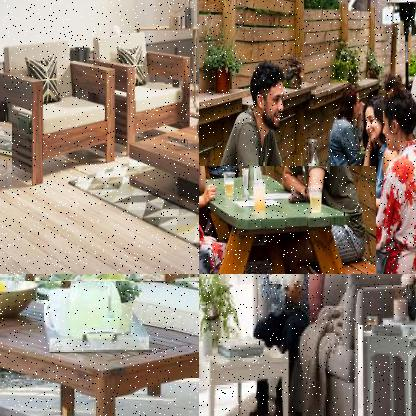table: (0, 281, 198, 415), (199, 166, 376, 273), (126, 115, 198, 227), (199, 332, 291, 415), (357, 325, 415, 415), (0, 122, 12, 189)
